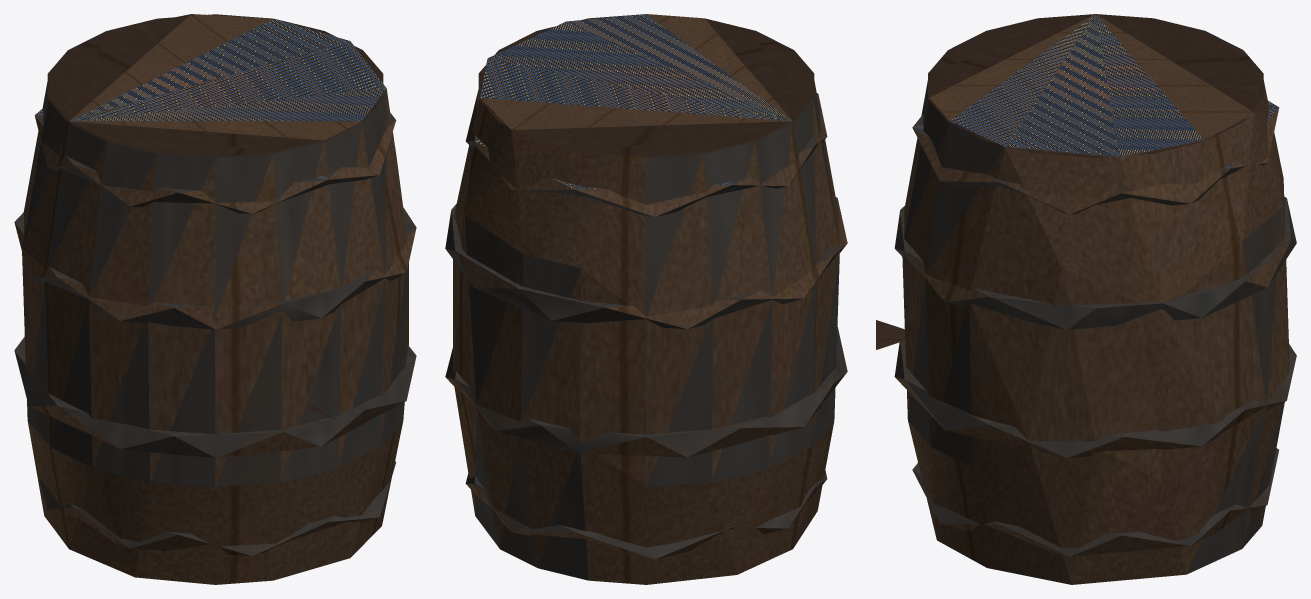
File: keg_lod1.glb
3 views of the same model, side by side, from view 1: azimuth 30°, elevation 25°; view 2: azimuth 150°, elevation 25°; view 3: azimuth 270°, elevation 25° (orthographic).
Visible parts, largest first — view 1: keg; view 2: keg; view 3: keg.
Boxes of the visible parts, x1,y1,x2,y2 form: keg: (14,14,416,584); keg: (445,14,847,584); keg: (876,14,1296,584).
Bounding box in the file's own units: 0.6076 × 0.7201 × 0.6418.
1 material, 1 textured.
